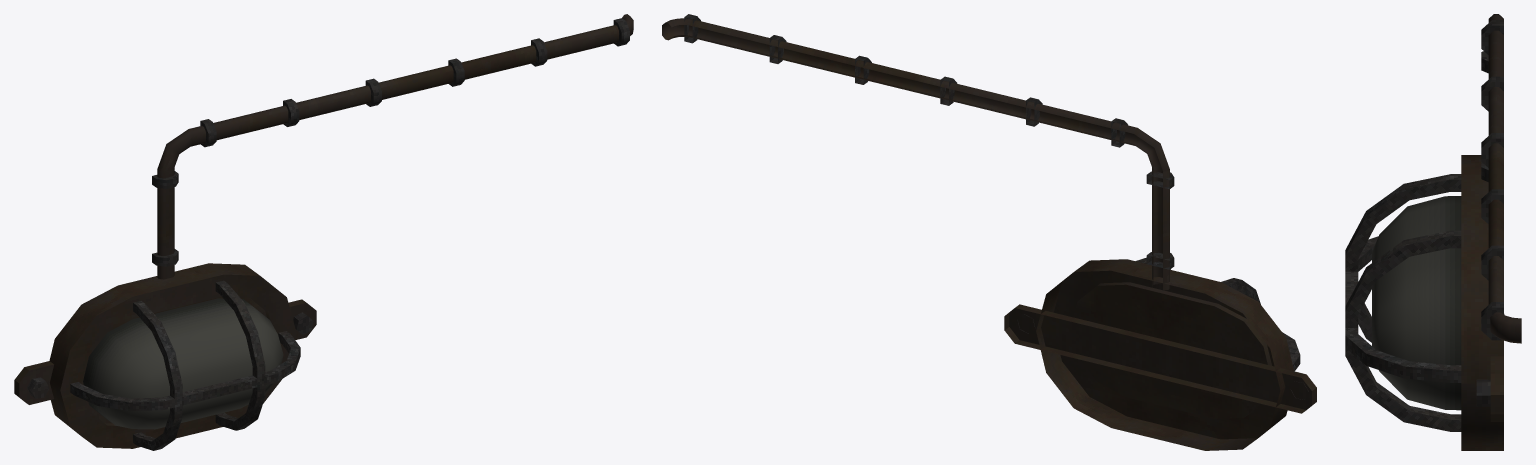
File: lamp_1_1_off.glb
3 renders of one model, left to right at view 1: azimuth 30°, elevation 25°; view 2: azimuth 150°, elevation 25°; view 3: azimuth 270°, elevation 25°, orthographic. The views are drawn at different scales.
Visible parts, largest first — view 1: lamp_1_1_off; view 2: lamp_1_1_off; view 3: lamp_1_1_off.
Part boxes in pixels (x1=…): lamp_1_1_off: x1=14, y1=14, x2=633, y2=450; lamp_1_1_off: x1=662, y1=14, x2=1316, y2=450; lamp_1_1_off: x1=1345, y1=14, x2=1521, y2=450.
Bounding box in the file's own units: 0.7532 × 0.343 × 0.1323.
Materials: 3 (3 with a texture image).
